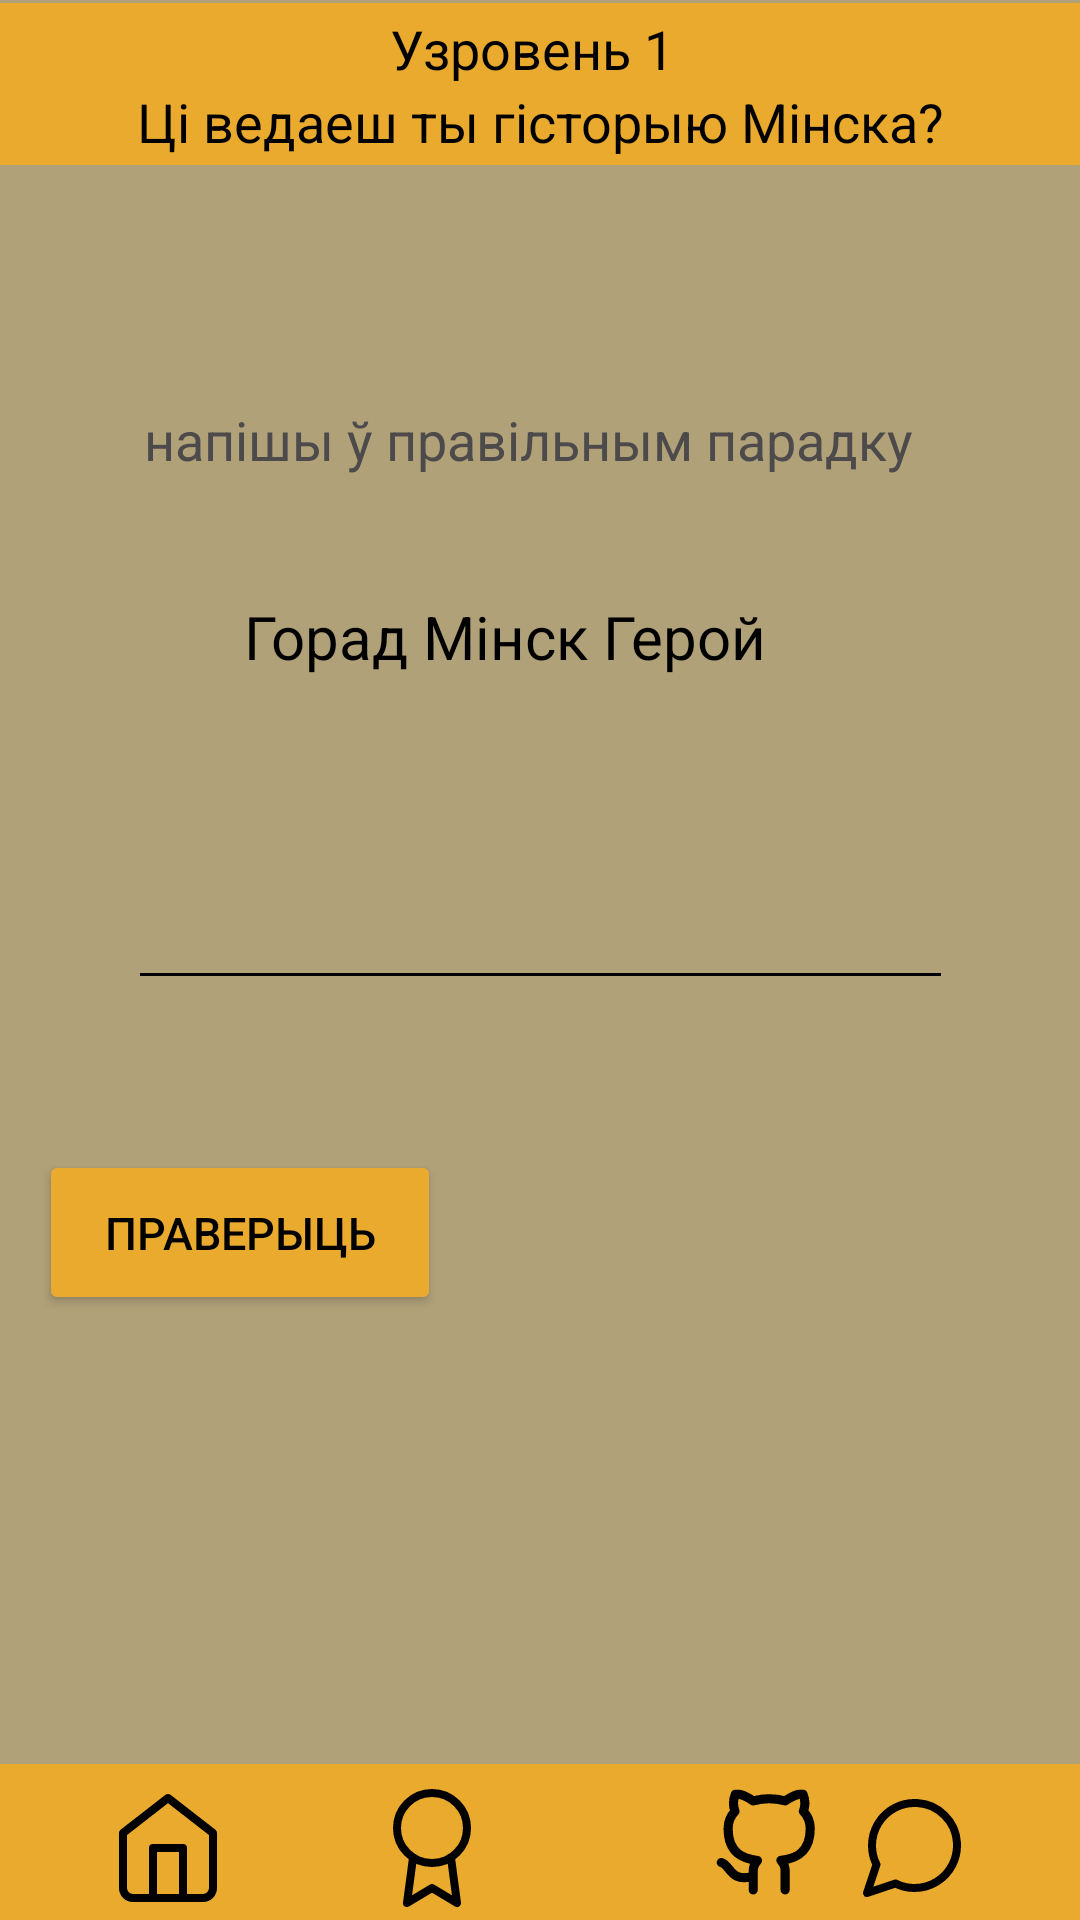

Named icons in this screenshot (1080x1920) and their centers, [x,y]:
award: [432,1848]
home: [168,1848]
message circle: [912,1848]
